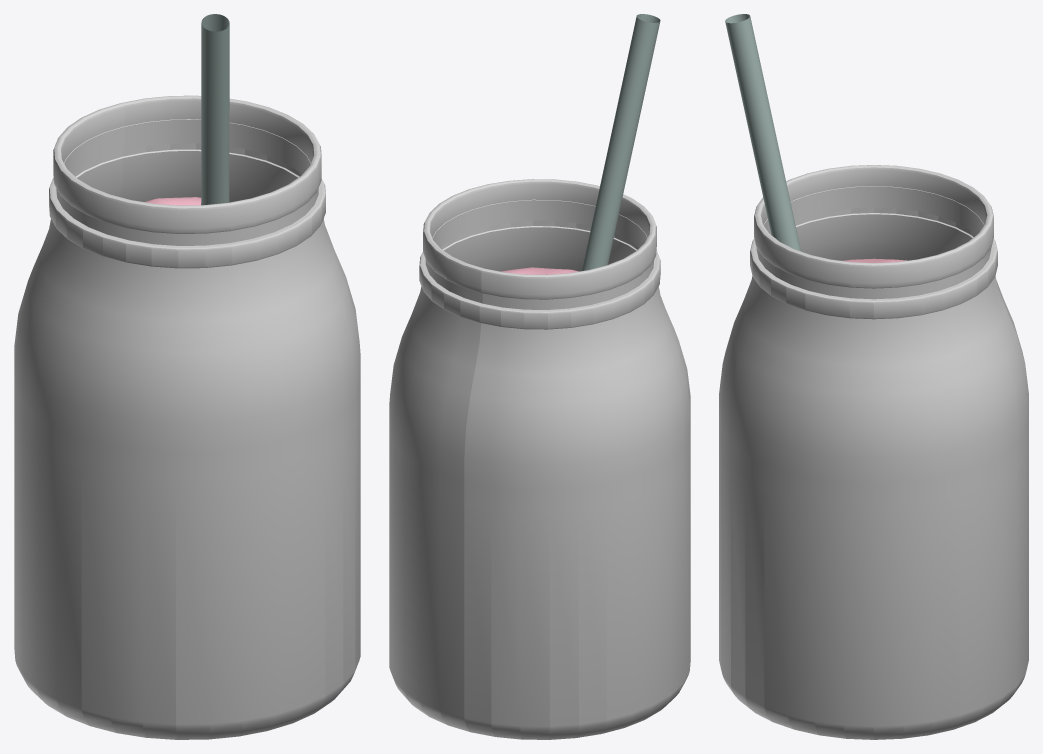
File: strawberry.gltf
The picture shows the model from 3 angles, left to right: view 1: azimuth 30°, elevation 25°; view 2: azimuth 150°, elevation 25°; view 3: azimuth 270°, elevation 25°; orthographic projection. The views are drawn at different scales.
Parts seen in each view (by area): view 1: Cube; view 2: Cube; view 3: Cube.
Part boxes in pixels (box(x1,y1,x2,y2)): Cube: box(14, 14, 360, 739); Cube: box(389, 14, 690, 739); Cube: box(719, 14, 1028, 739).
Bounding box in the file's own units: 1.48 × 3.4 × 1.48.
